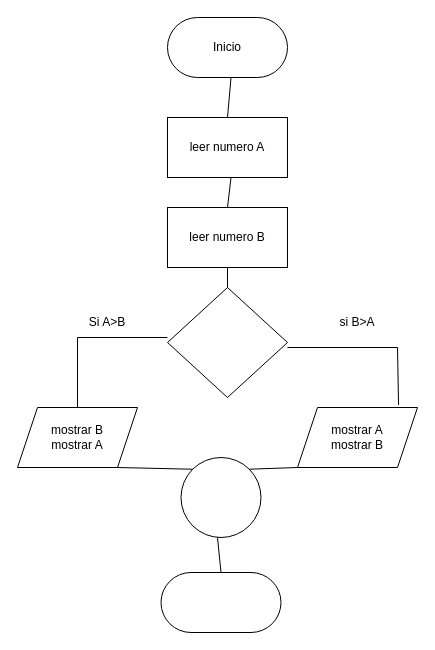
This 435x650 diagram has some shape labels left out. The shapes that lost their labels are listed below. From the top down, each one's centre as x and y in pixels, then its label:
At point (227, 342): "compara numero".
At point (220, 602): "Fin".
